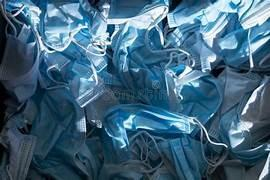Mask: (103, 104, 225, 162), (31, 88, 99, 179), (112, 24, 180, 111), (219, 69, 268, 164), (0, 26, 38, 101), (217, 20, 269, 70), (174, 70, 222, 124), (39, 0, 87, 50), (159, 135, 206, 179), (240, 76, 269, 143), (108, 0, 167, 28), (167, 0, 210, 27)
